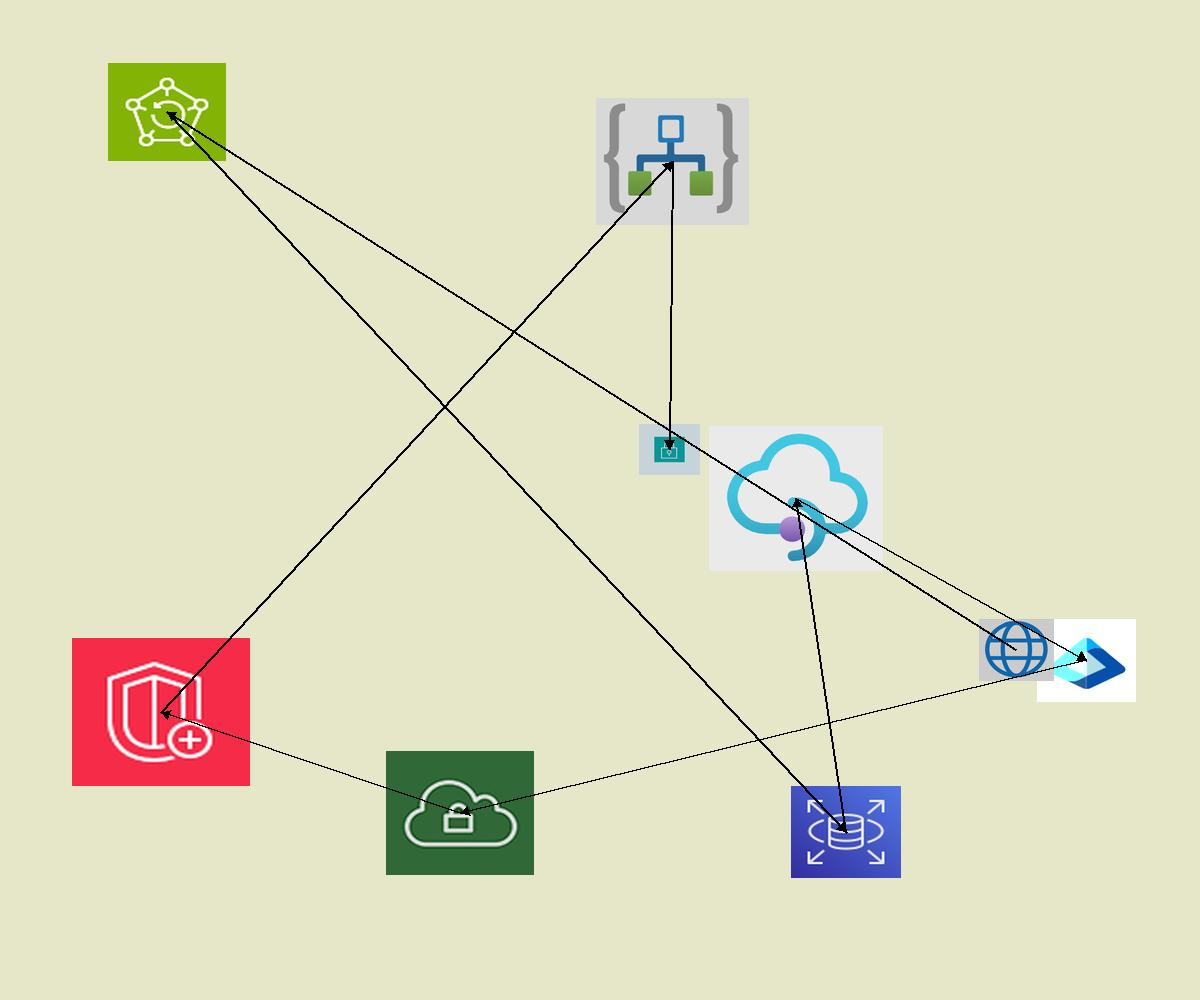AWS-Backup: (108, 63, 226, 161)
AWS-Private-subnet: (639, 424, 700, 475)
AWS-Private_vpc: (386, 751, 534, 875)
AWS-RDS: (791, 786, 901, 878)
AWS-Shield: (72, 638, 250, 786)
Azure_api_gateway: (709, 426, 883, 571)
Azure_http: (979, 619, 1054, 681)
Azure_integration-204-Logic-Apps: (596, 98, 749, 225)
Azure_microsoft_entra: (1037, 619, 1136, 702)
